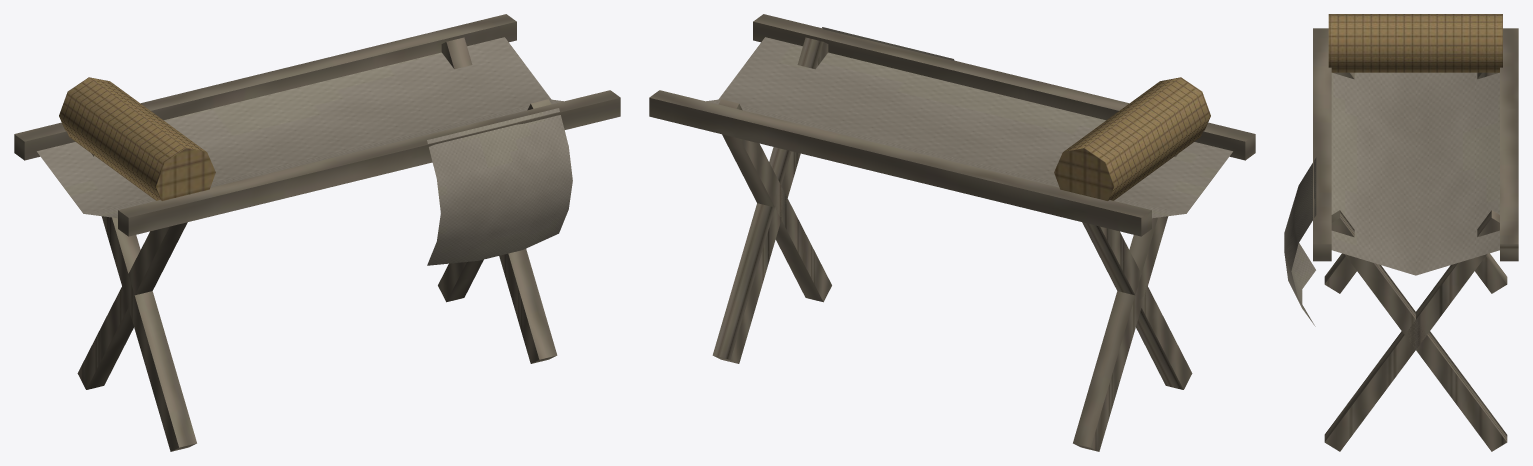
The model's file is prop_veldbed_red.glb.
3 renders of one model, left to right at view 1: azimuth 30°, elevation 25°; view 2: azimuth 150°, elevation 25°; view 3: azimuth 270°, elevation 25°, orthographic. The views are drawn at different scales.
Visible parts, largest first — view 1: prop_veldbed_red; view 2: prop_veldbed_red; view 3: prop_veldbed_red.
Boxes of the visible parts, box(x1,y1,x2,y2) form: prop_veldbed_red: box(14, 14, 620, 451); prop_veldbed_red: box(649, 14, 1255, 451); prop_veldbed_red: box(1284, 14, 1518, 451).
Size of the model in its own units: 0.82 by 0.4874 by 0.3762.
Materials: 1 (1 with a texture image).
